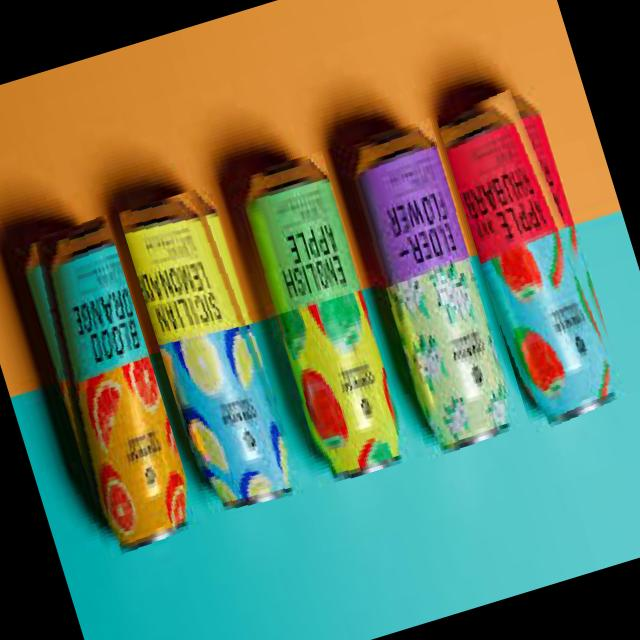Cans: (433, 79, 637, 438), (5, 211, 202, 561), (225, 149, 419, 502), (332, 117, 526, 466), (117, 182, 310, 531)
